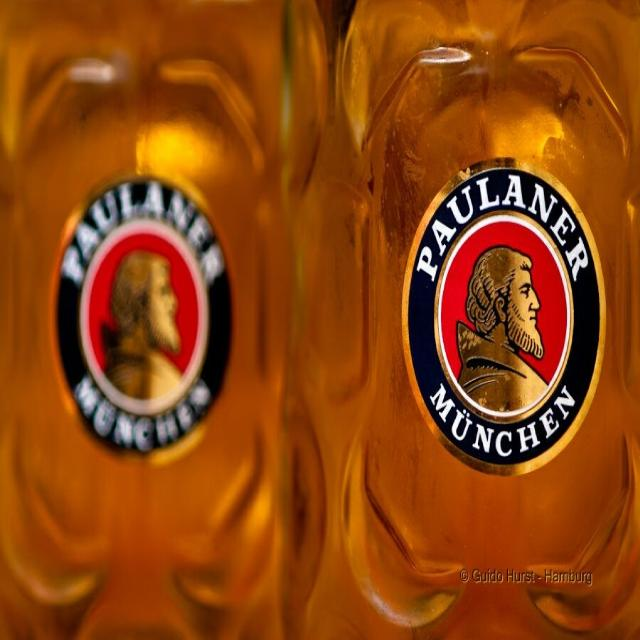paulaner: (403, 157, 607, 479), (48, 169, 236, 463)
